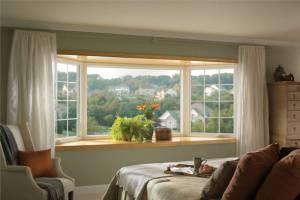window: (53, 57, 239, 136)
